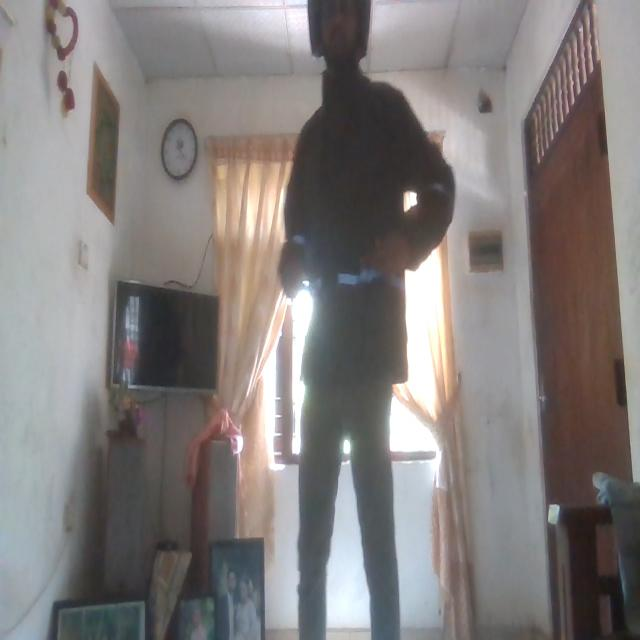Helmet_Wearer: (296, 0, 376, 71)
Jacket_Wearer: (281, 71, 453, 391)
Person: (274, 0, 456, 628)
